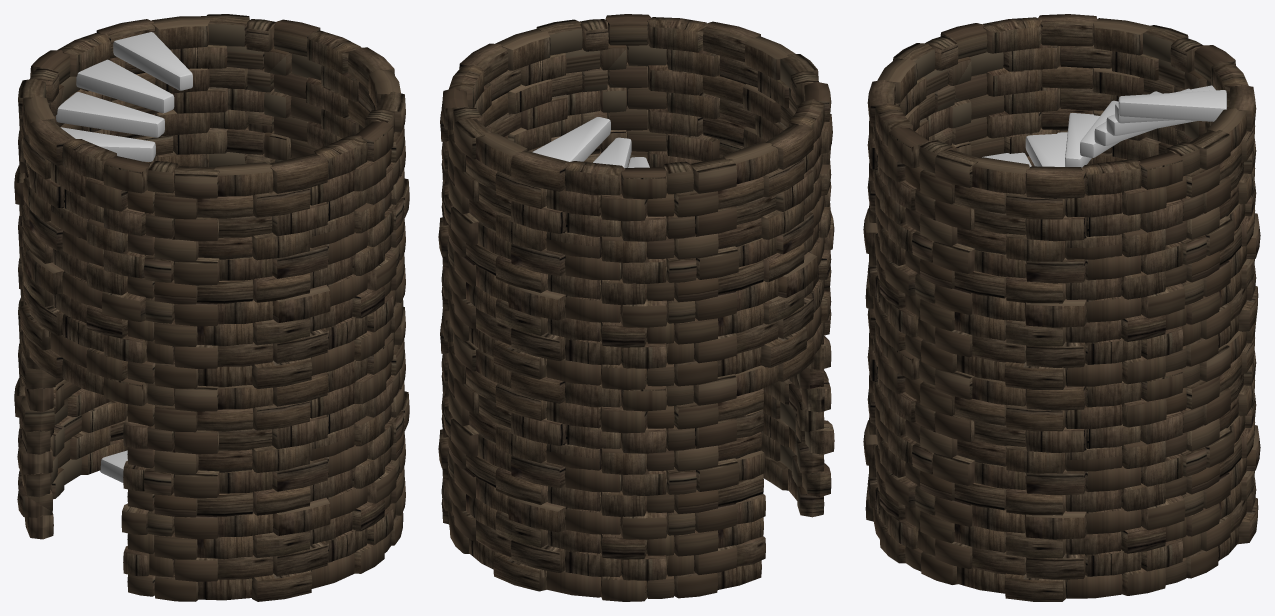
The model's file is TorreDeCaracol.fbx.
The picture shows the model from 3 angles, left to right: view 1: azimuth 30°, elevation 25°; view 2: azimuth 150°, elevation 25°; view 3: azimuth 270°, elevation 25°; orthographic projection.
Parts seen in each view (by area): view 1: Pared_Piedra014, Box611; view 2: Pared_Piedra014, Box611; view 3: Pared_Piedra014, Box611.
Boxes of the visible parts, left/top/right/bottom form: Pared_Piedra014: left=14, top=14, right=409, bottom=601; Box611: left=56, top=32, right=192, bottom=482; Pared_Piedra014: left=438, top=14, right=834, bottom=601; Box611: left=532, top=117, right=649, bottom=168; Pared_Piedra014: left=863, top=14, right=1260, bottom=601; Box611: left=982, top=85, right=1226, bottom=167.
Size of the model in its own units: 739 by 882 by 739.
